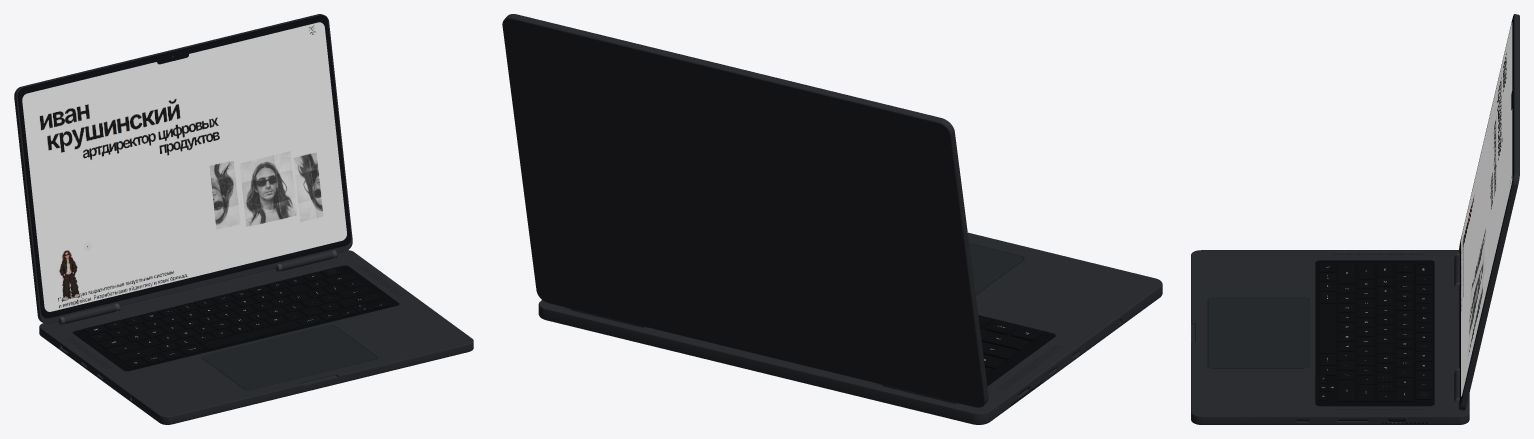
File: macbook_pro_14_m5_v1_web.glb
3 views of the same model, side by side, from view 1: azimuth 30°, elevation 25°; view 2: azimuth 150°, elevation 25°; view 3: azimuth 270°, elevation 25° (orthographic). The views are drawn at different scales.
Visible parts, largest first — view 1: SCREEN_CONTENT, BASE_UNIBODY, TRACKPAD, DISPLAY_BEZEL, LID_UNIBODY, KEYBOARD_WELL, DISPLAY_GASKET, KEY_00_04, HINGE_COVER_R, HINGE_COVER_L; view 2: LID_UNIBODY, BASE_UNIBODY, TRACKPAD, APPLE_LOGO_RELEASE, KEYBOARD_WELL; view 3: BASE_UNIBODY, SCREEN_CONTENT, TRACKPAD, KEYBOARD_WELL, LID_UNIBODY, DISPLAY_BEZEL, KEY_00_04, DISPLAY_GASKET, KEY_01_00, KEY_01_11.
Part boxes in pixels (left/top/right/bottom): SCREEN_CONTENT: left=22, top=22, right=346, bottom=311; BASE_UNIBODY: left=39, top=250, right=473, bottom=424; TRACKPAD: left=202, top=325, right=376, bottom=389; DISPLAY_BEZEL: left=19, top=16, right=349, bottom=316; LID_UNIBODY: left=14, top=14, right=352, bottom=323; KEYBOARD_WELL: left=73, top=266, right=399, bottom=371; DISPLAY_GASKET: left=17, top=15, right=351, bottom=318; KEY_00_04: left=201, top=320, right=300, bottom=349; HINGE_COVER_R: left=280, top=250, right=333, bottom=271; HINGE_COVER_L: left=63, top=303, right=116, bottom=324; LID_UNIBODY: left=502, top=14, right=988, bottom=407; BASE_UNIBODY: left=538, top=232, right=1162, bottom=424; TRACKPAD: left=969, top=243, right=1023, bottom=294; APPLE_LOGO_RELEASE: left=723, top=182, right=763, bottom=232; KEYBOARD_WELL: left=978, top=315, right=1055, bottom=386; BASE_UNIBODY: left=1191, top=250, right=1469, bottom=424; SCREEN_CONTENT: left=1461, top=22, right=1512, bottom=396; TRACKPAD: left=1208, top=298, right=1308, bottom=368; KEYBOARD_WELL: left=1315, top=260, right=1434, bottom=406; LID_UNIBODY: left=1459, top=14, right=1519, bottom=410; DISPLAY_BEZEL: left=1460, top=16, right=1513, bottom=401; KEY_00_04: left=1319, top=303, right=1335, bottom=353; DISPLAY_GASKET: left=1460, top=14, right=1514, bottom=403; KEY_01_00: left=1338, top=263, right=1355, bottom=284; KEY_01_11: left=1338, top=380, right=1355, bottom=401.
Size of the model in its own units: 0.3131 by 0.2187 by 0.2612.
Materials: 14 (2 with a texture image).
